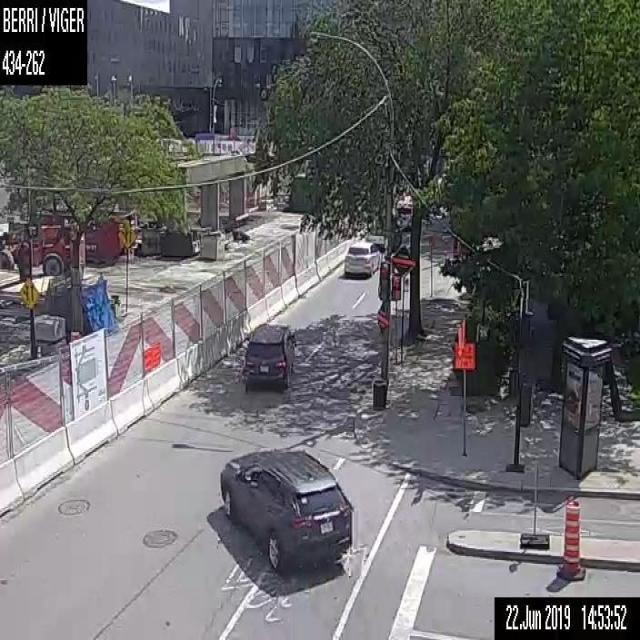construction: (450, 336, 474, 455), (556, 498, 586, 582)
vehicle: (218, 447, 351, 573), (242, 322, 294, 389), (342, 240, 380, 277), (394, 200, 414, 232)
